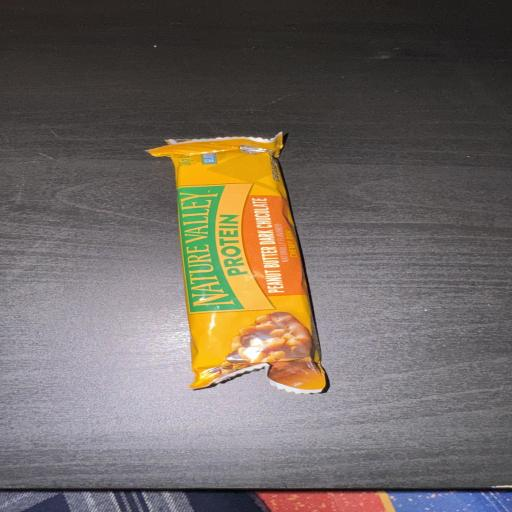granola: (149, 134, 325, 393)
